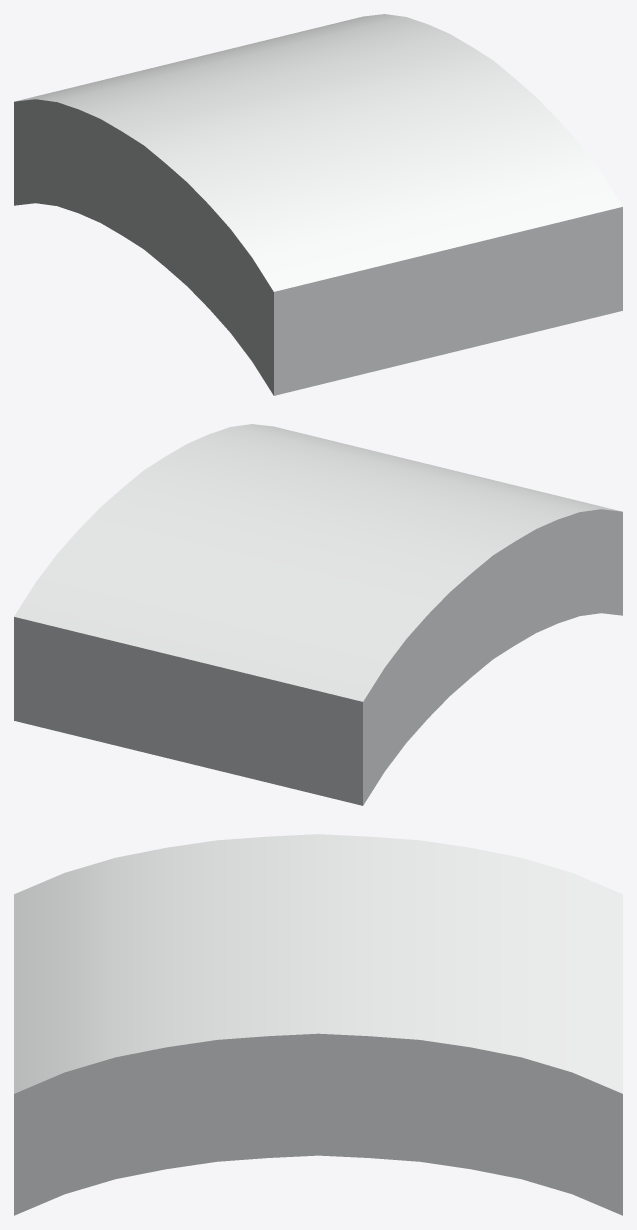
File: Bridge.fbx
3 renders of one model, top to bottom at view 1: azimuth 30°, elevation 25°; view 2: azimuth 150°, elevation 25°; view 3: azimuth 270°, elevation 25°, orthographic. The views are drawn at different scales.
Parts seen in each view (by area): view 1: Bridge; view 2: Bridge; view 3: Bridge.
Part boxes in pixels (x1=…): Bridge: x1=14, y1=14, x2=622, y2=395; Bridge: x1=14, y1=424, x2=622, y2=805; Bridge: x1=14, y1=834, x2=622, y2=1215.
Size of the model in its own units: 3.51 by 1.49 by 4.53.
